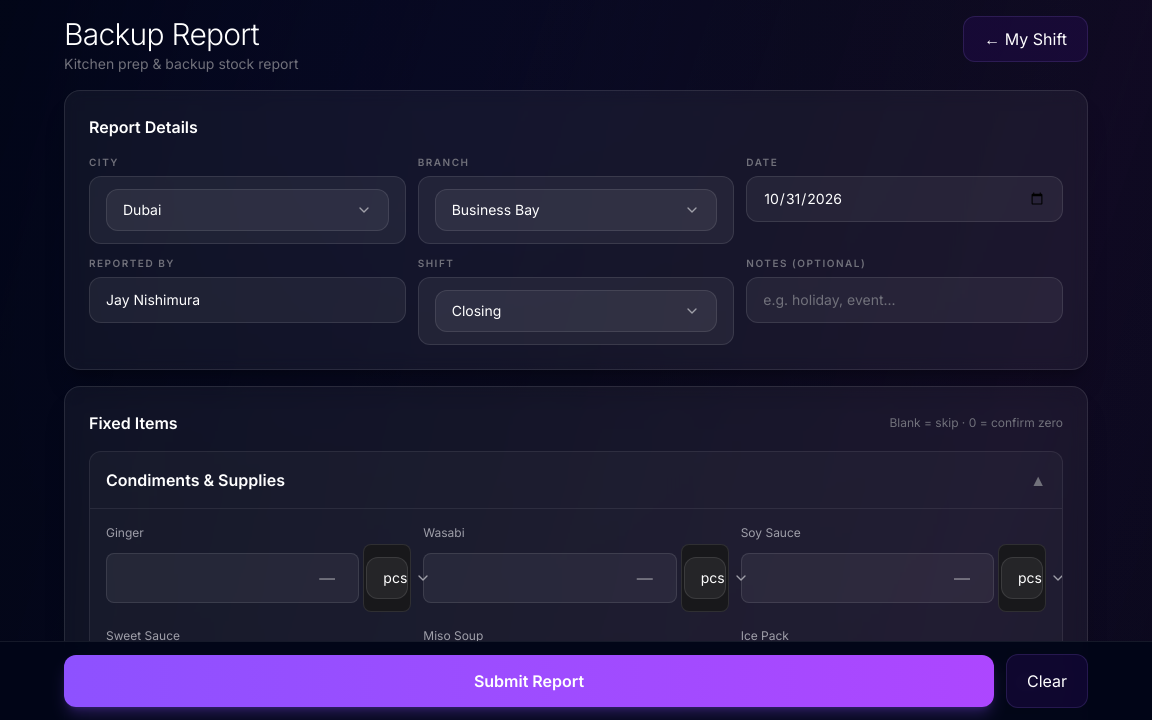
Test: /admin/backup — form validation › shows error when no items are filled and submit is clicked
The width and height of the screenshot is (1152, 720).
Step 1. Click the button "Submit Report" → coordinates (529, 681), box [64,655,994,707]
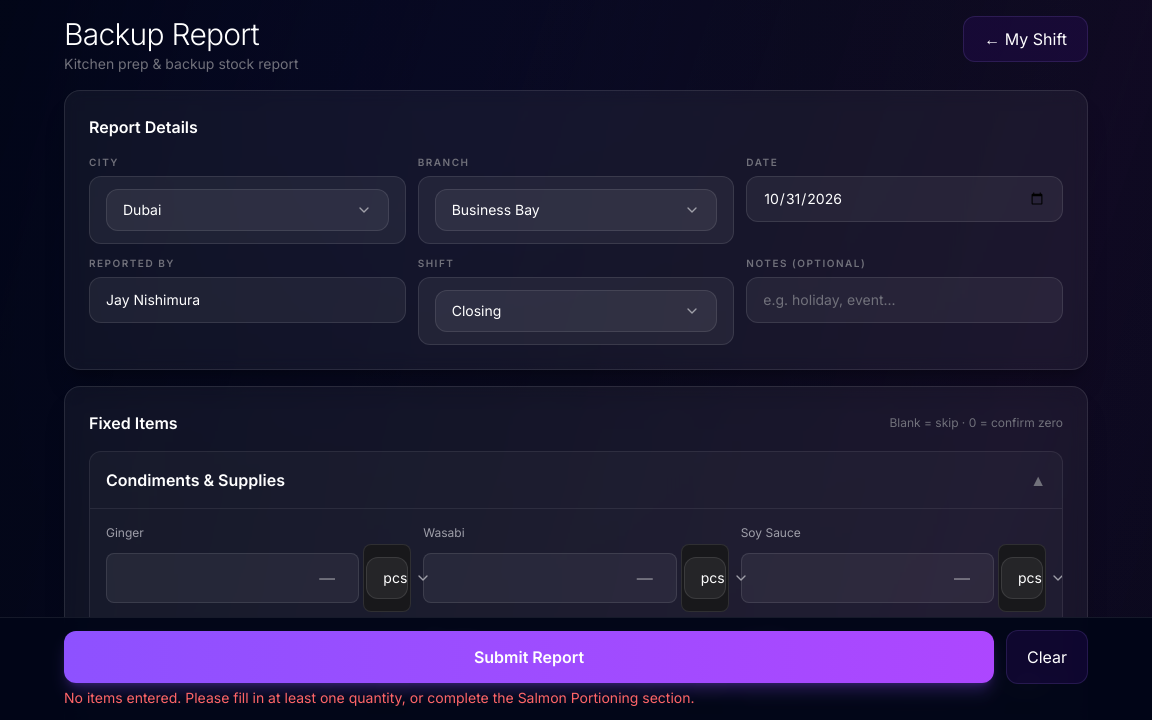
Expected: the text "No items entered" is shown, [64,689,694,706]
